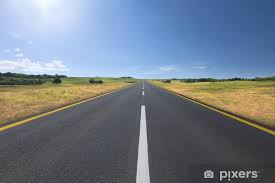strada: (0, 89, 274, 181)
